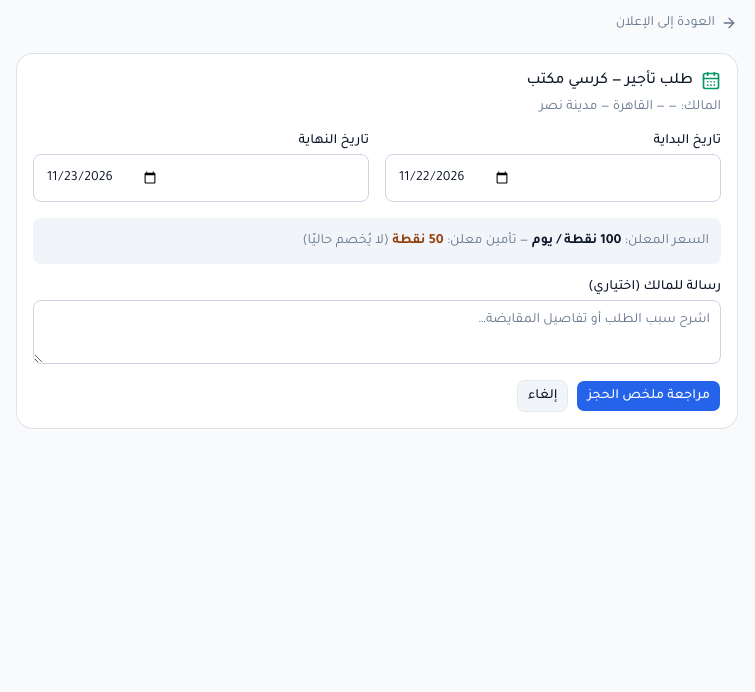
Test: A5 booking summary (SRS §4.10) › shows all eleven literal rows with the computed figures
The image size is (755, 692).
Check: the text "تاريخ البداية" is shown, box x1=654 y1=134 x2=721 y2=148
Click the button "مراجعة ملخص الحجز": (649, 396) x1=576 y1=380 x2=721 y2=412
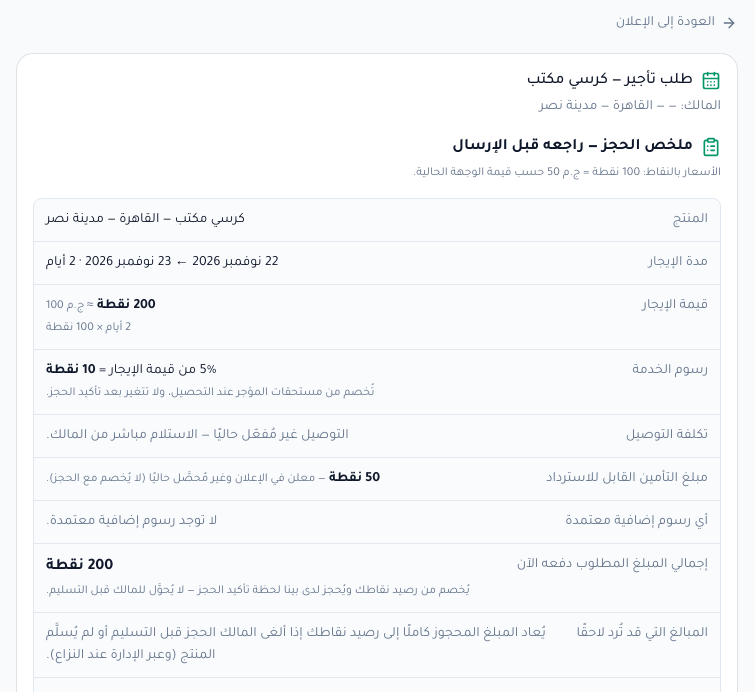
Check: the text "ملخص الحجز — راجعه قبل الإرسال" is shown, box x1=452 y1=137 x2=721 y2=157
Check: the text "المنتج" is shown, box x1=672 y1=209 x2=708 y2=231
Check: the text "مدة الإيجار" is shown, box x1=649 y1=252 x2=708 y2=274
